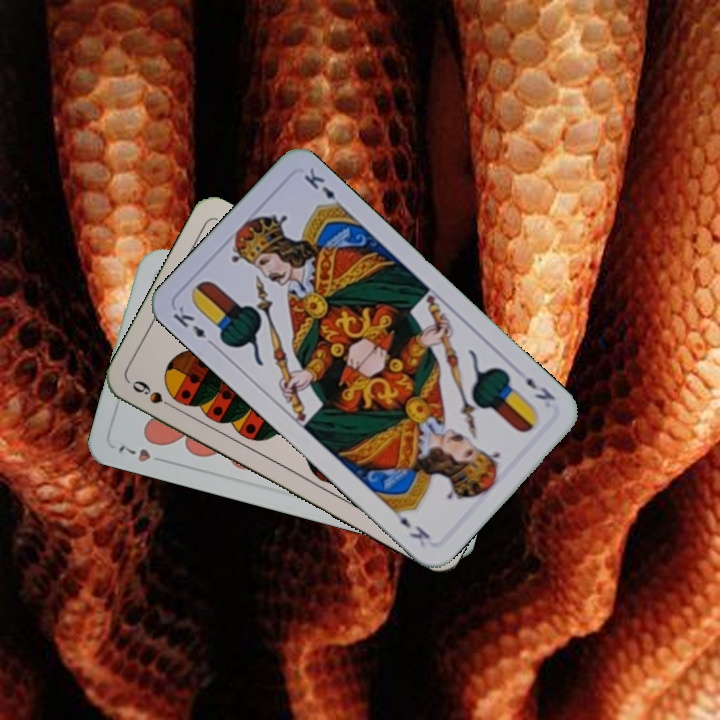EK: (169, 302, 219, 350), (521, 373, 558, 403)
H7: (114, 440, 153, 465)
S9: (128, 376, 181, 414)
